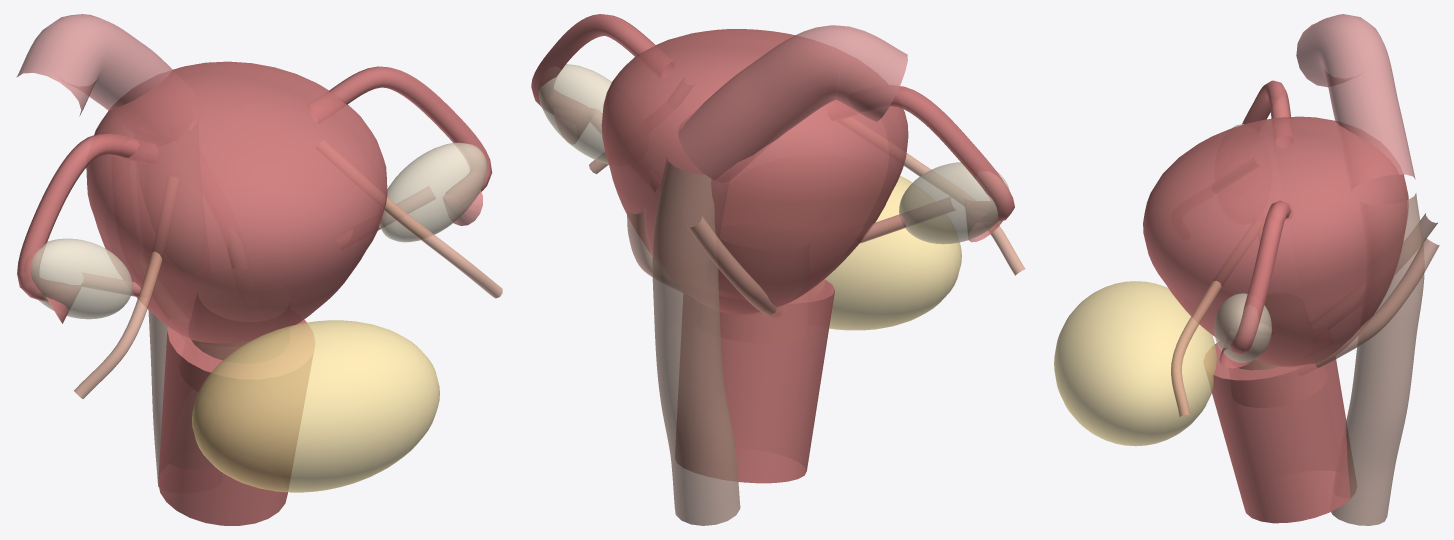
File: modelo-pelvico_(2)_1766845612175.glb
The picture shows the model from 3 angles, left to right: view 1: azimuth 30°, elevation 25°; view 2: azimuth 150°, elevation 25°; view 3: azimuth 270°, elevation 25°; orthographic projection. The views are drawn at different scales.
Parts seen in each view (by area): view 1: uterus, bladder, object 10, intestine, rectum, cervix, rightOvary, leftOvary, object 7, object 6, leftRoundLigament, rightRoundLigament (+4 smaller); view 2: uterus, object 10, rectum, intestine, bladder, cervix, leftOvary, object 6, rightOvary, object 7, leftRoundLigament, leftUterosacrallLigament (+5 smaller); view 3: uterus, bladder, object 10, rectum, intestine, cervix, object 7, rightUterosacrallLigament, rightOvary, rightRoundLigament, object 6, leftUterosacrallLigament (+2 smaller).
Part boxes in pixels (x1=…): uterus: x1=86, y1=61, x2=387, y2=346; bladder: x1=192, y1=320, x2=439, y2=492; object 10: x1=158, y1=301, x2=314, y2=525; intestine: x1=16, y1=14, x2=196, y2=145; rectum: x1=135, y1=123, x2=211, y2=486; cervix: x1=179, y1=269, x2=289, y2=391; rightOvary: x1=379, y1=142, x2=487, y2=242; leftOvary: x1=24, y1=238, x2=132, y2=319; object 7: x1=308, y1=66, x2=492, y2=201; object 6: x1=17, y1=134, x2=157, y2=301; leftRoundLigament: x1=74, y1=177, x2=178, y2=398; rightRoundLigament: x1=315, y1=140, x2=502, y2=298; uterus: x1=601, y1=29, x2=908, y2=314; object 10: x1=675, y1=279, x2=834, y2=483; rectum: x1=652, y1=159, x2=740, y2=525; intestine: x1=678, y1=25, x2=907, y2=182; bladder: x1=810, y1=175, x2=961, y2=330; cervix: x1=719, y1=225, x2=808, y2=343; leftOvary: x1=899, y1=162, x2=1009, y2=244; object 6: x1=827, y1=85, x2=1014, y2=221; rightOvary: x1=538, y1=64, x2=611, y2=164; object 7: x1=531, y1=14, x2=674, y2=116; leftRoundLigament: x1=837, y1=117, x2=1025, y2=275; leftUterosacrallLigament: x1=687, y1=214, x2=782, y2=317; uterus: x1=1143, y1=116, x2=1408, y2=367; bladder: x1=1054, y1=281, x2=1217, y2=446; object 10: x1=1204, y1=327, x2=1356, y2=523; rectum: x1=1331, y1=193, x2=1424, y2=525; intestine: x1=1296, y1=14, x2=1415, y2=190; cervix: x1=1228, y1=294, x2=1327, y2=407; object 7: x1=1226, y1=200, x2=1293, y2=354; rightUterosacrallLigament: x1=1297, y1=237, x2=1439, y2=374; rightOvary: x1=1214, y1=293, x2=1271, y2=362; rightRoundLigament: x1=1171, y1=220, x2=1262, y2=417; object 6: x1=1242, y1=80, x2=1293, y2=147; leftUterosacrallLigament: x1=1311, y1=213, x2=1437, y2=328.
Bounding box in the file's own units: 5.83 × 5.94 × 4.68.
